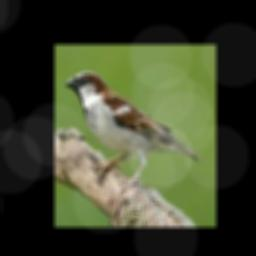Sparrow: (64, 71, 206, 195)
